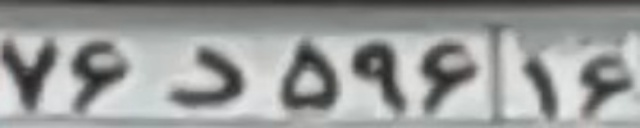1: (525, 49, 556, 117)
5: (279, 40, 332, 109)
6: (68, 38, 129, 115), (415, 38, 476, 113), (574, 51, 633, 117)
7: (3, 37, 60, 113)
9: (351, 38, 406, 110)
dal: (159, 45, 249, 106)
